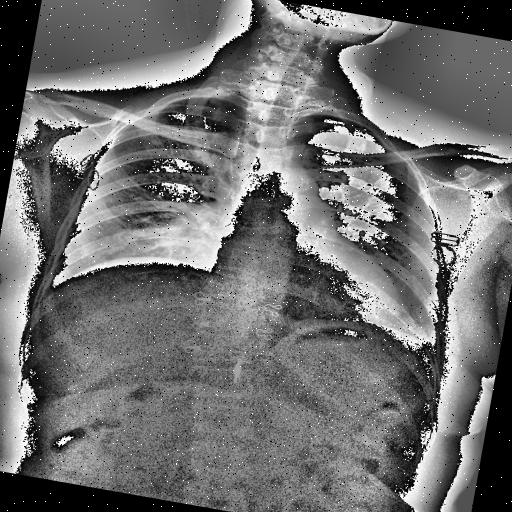3- Cardiomegaly: (206, 235, 416, 334), (210, 232, 416, 328), (206, 235, 408, 328)
